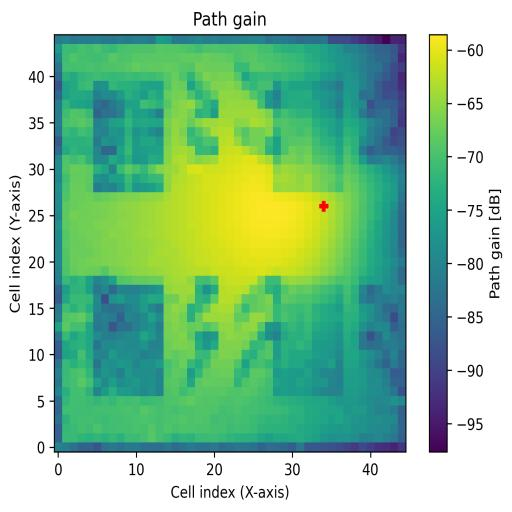Concrete: (275, 80, 344, 194)
Glass: (93, 79, 164, 194)
Metal: (275, 283, 341, 397)
Wood: (93, 285, 163, 395)
